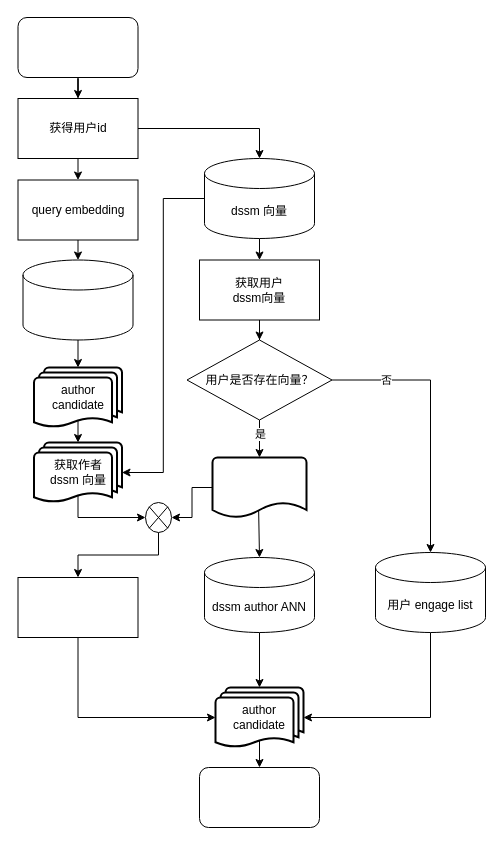
Image size: 503x845. Some labels were removed from this diagram. Each missing label, with the box of its shape:
search author ANN: (22, 259, 133, 340)
开始: (17, 16, 138, 78)
用户dssm向量: (211, 456, 307, 518)
相似度分排序过滤: (17, 576, 138, 638)
结束: (198, 766, 320, 828)
